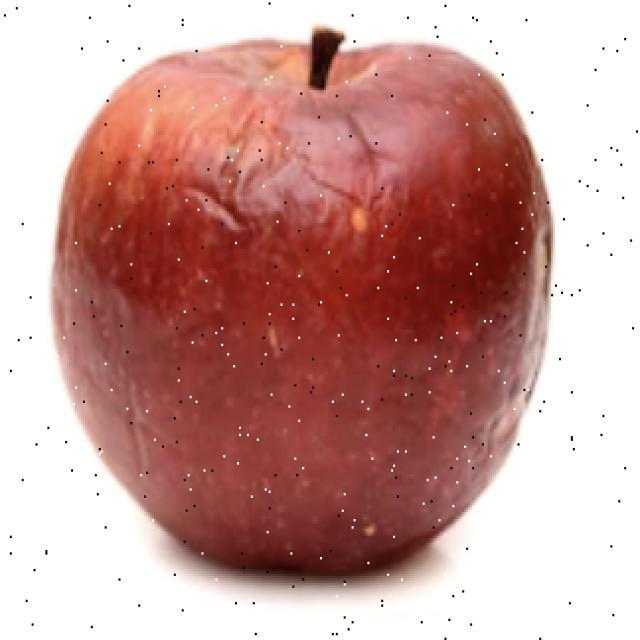Rotten: (63, 22, 557, 615)
